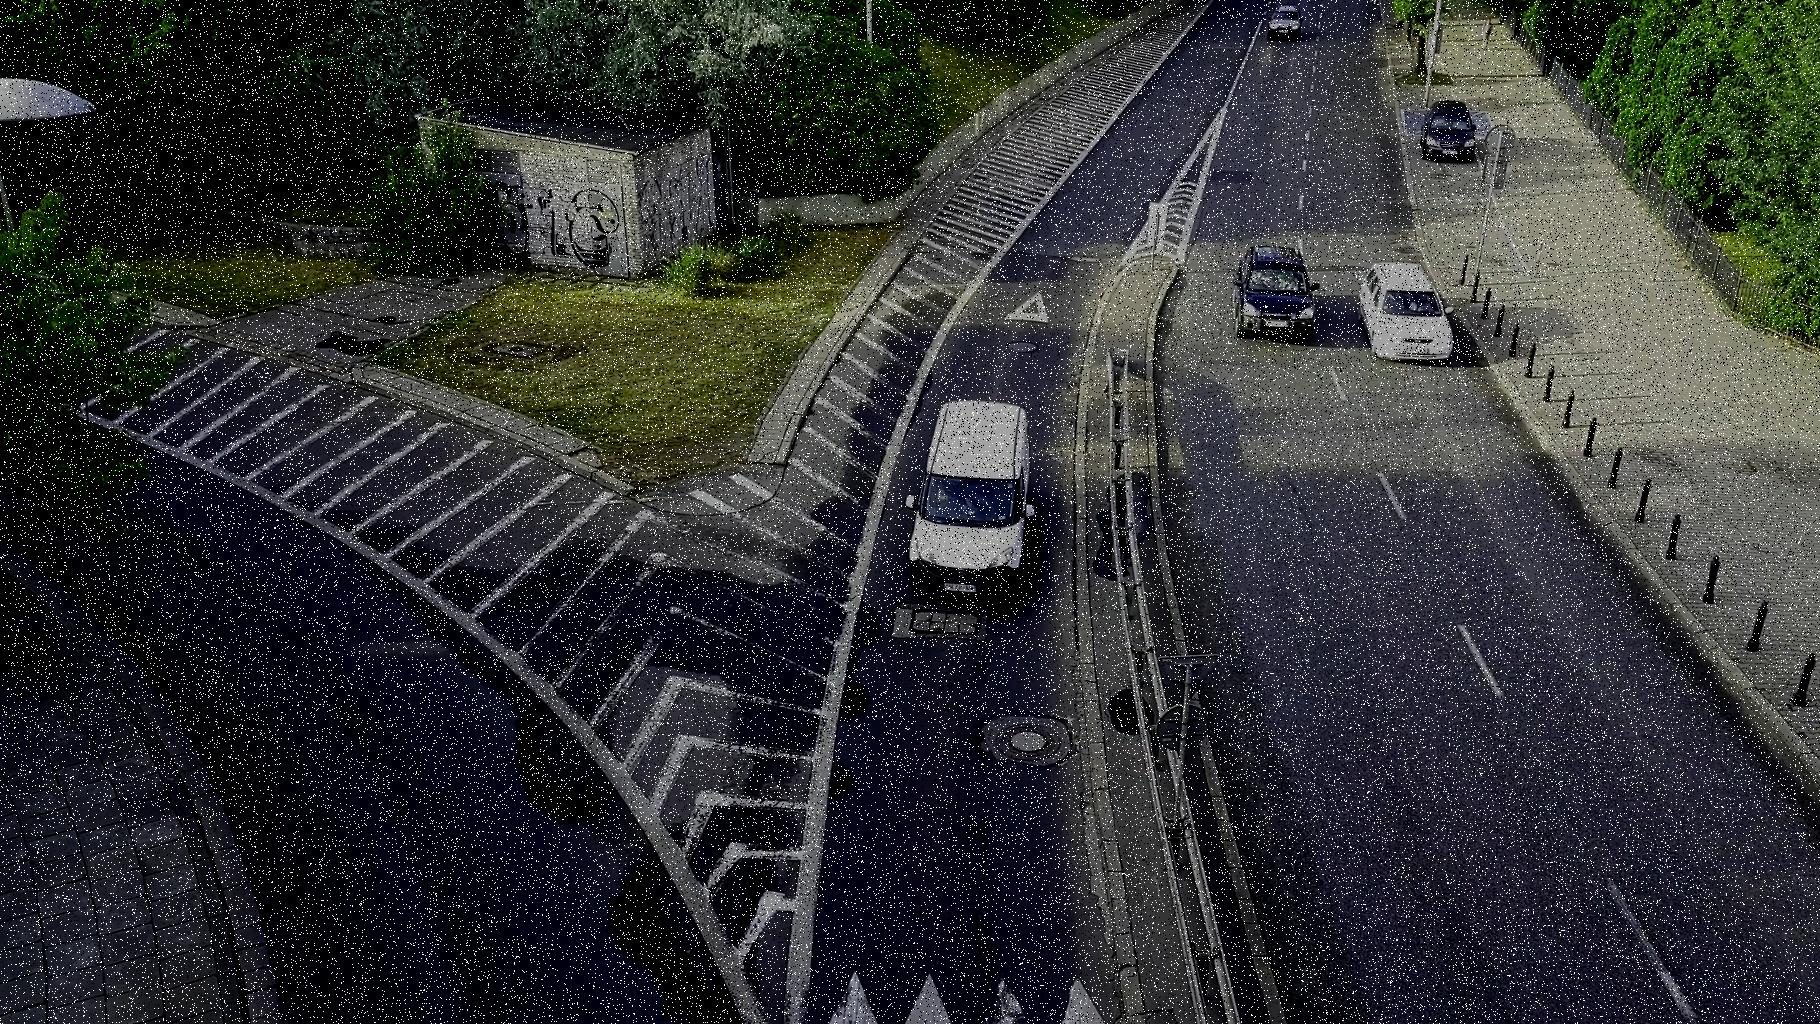car: (889, 398, 1042, 611), (1355, 254, 1457, 373), (1227, 230, 1322, 348), (1419, 89, 1481, 169), (1261, 0, 1307, 43)
